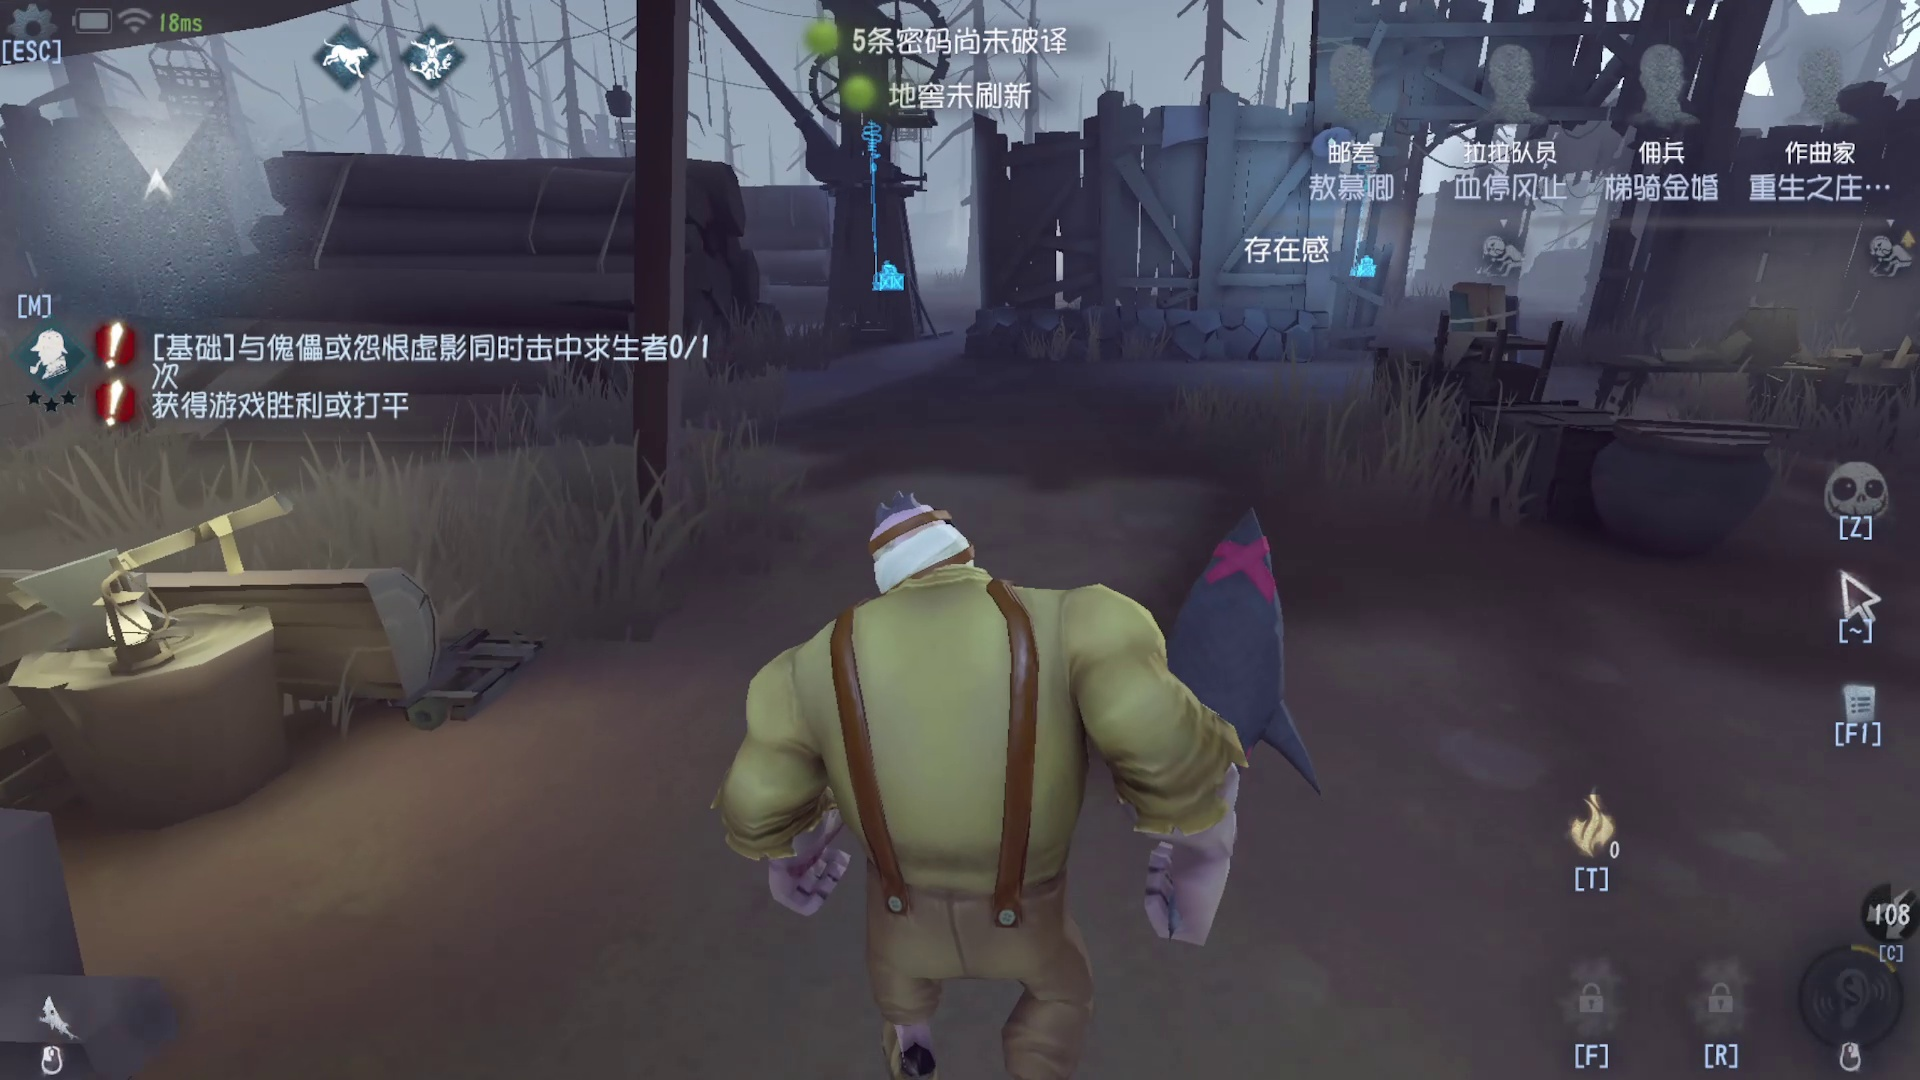密码机: (1331, 117, 1412, 289), (851, 117, 920, 302)
